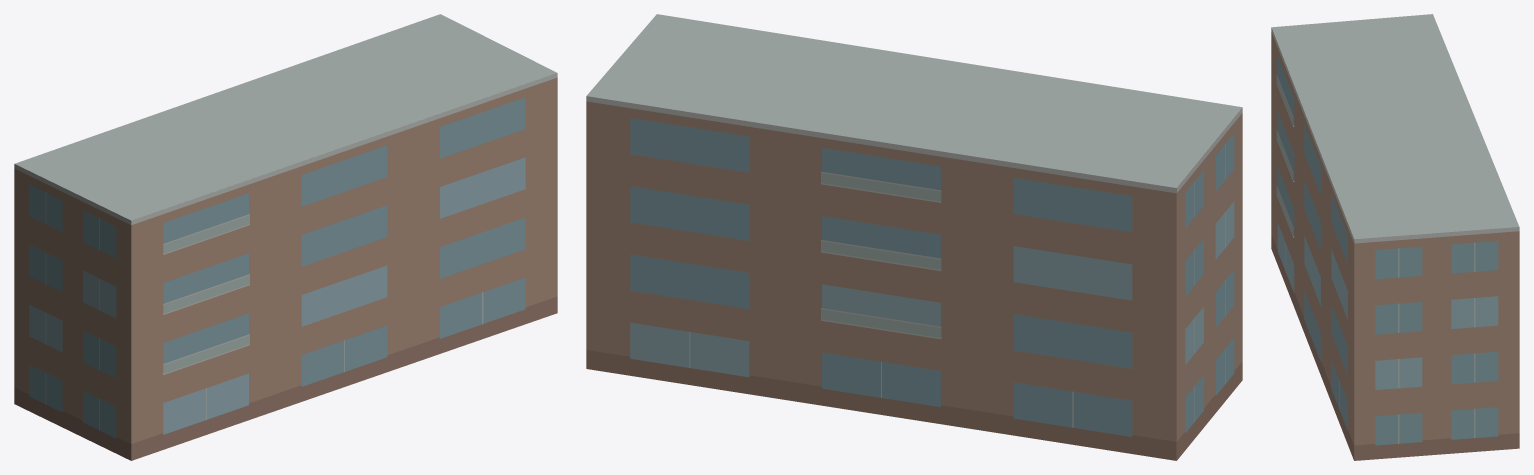
Rendered from survey-upis-32624662.glb.
3 renders of one model, left to right at view 1: azimuth 30°, elevation 25°; view 2: azimuth 150°, elevation 25°; view 3: azimuth 270°, elevation 25°, orthographic. The views are drawn at different scales.
Visible parts, largest first — view 1: survey-upis-32624662.tmp; view 2: survey-upis-32624662.tmp; view 3: survey-upis-32624662.tmp.
Part boxes in pixels (x1=…): survey-upis-32624662.tmp: x1=14, y1=14, x2=557, y2=460; survey-upis-32624662.tmp: x1=586, y1=14, x2=1242, y2=460; survey-upis-32624662.tmp: x1=1271, y1=14, x2=1519, y2=460.
Bounding box in the file's own units: 27.7 × 12.7 × 12.89.
